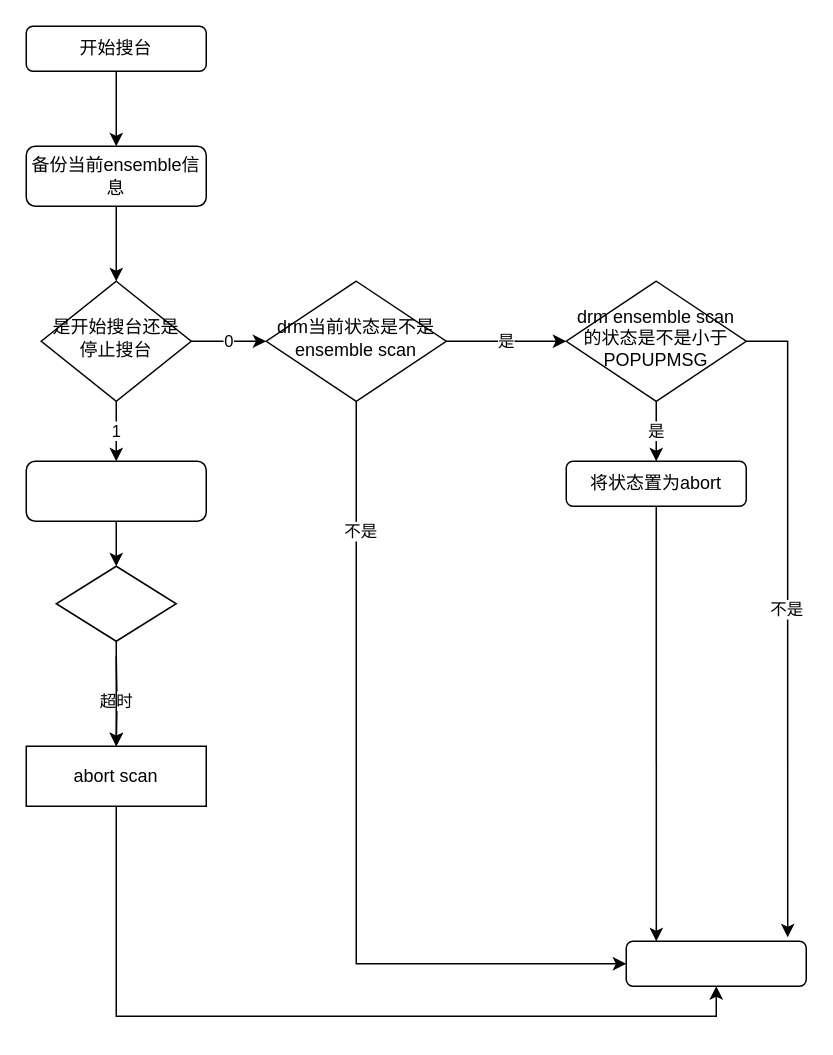
Image size: 833x1055. Some labels were removed from this diagram. Each missing label, with the centre of its shape:
将drm状态置为ensemble scan: the point at 115,490
执行scan: the point at 115,603
结束: the point at 715,963
